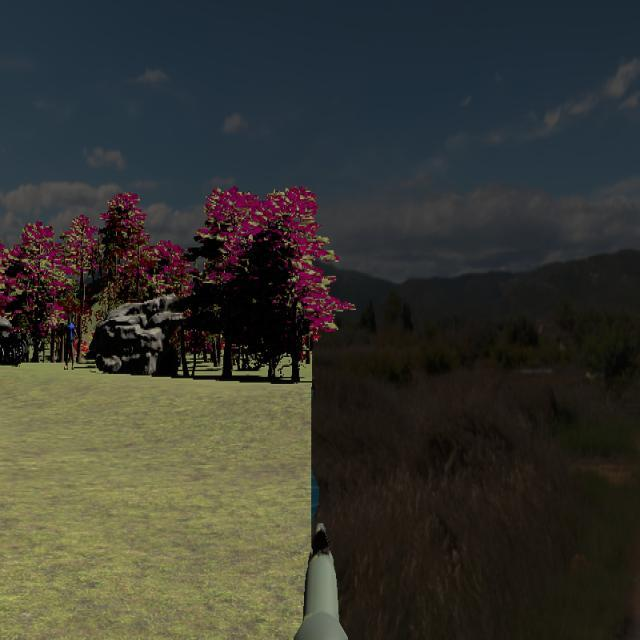Human: (60, 314, 79, 370)
Tank: (0, 312, 28, 366)
